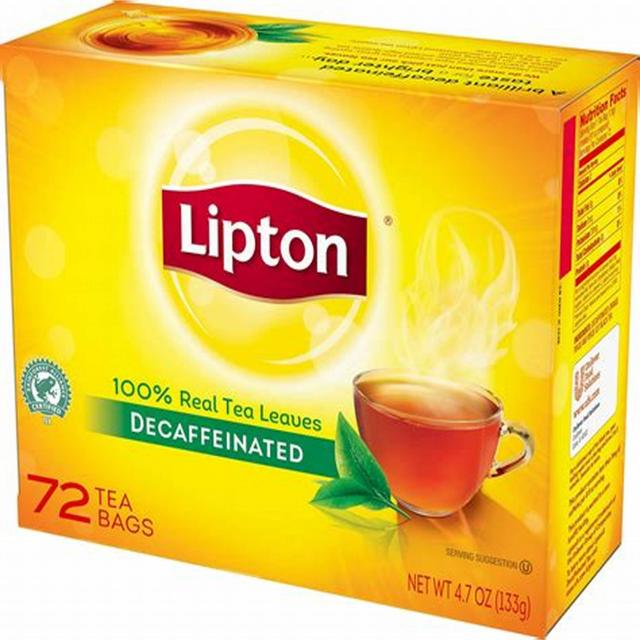Caja: (0, 0, 626, 623)
